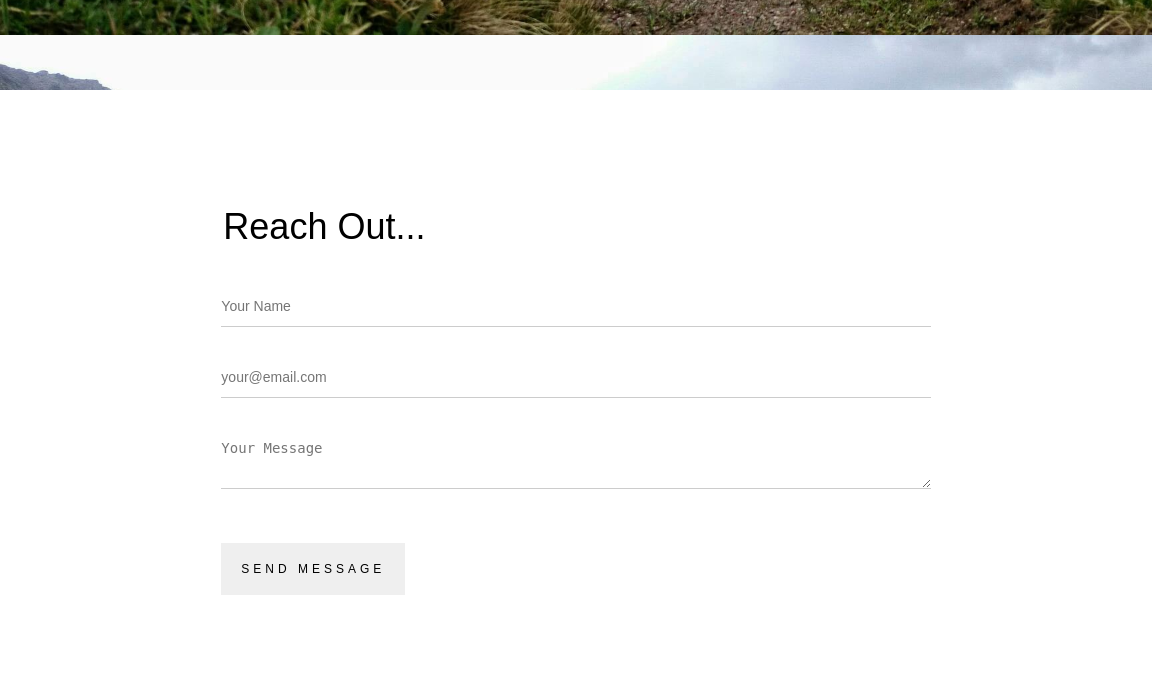
Test: should have correct error messages if inputs left blank
(page scrolled)
Click the button "Send Message": (313, 569) [221, 543, 405, 595]
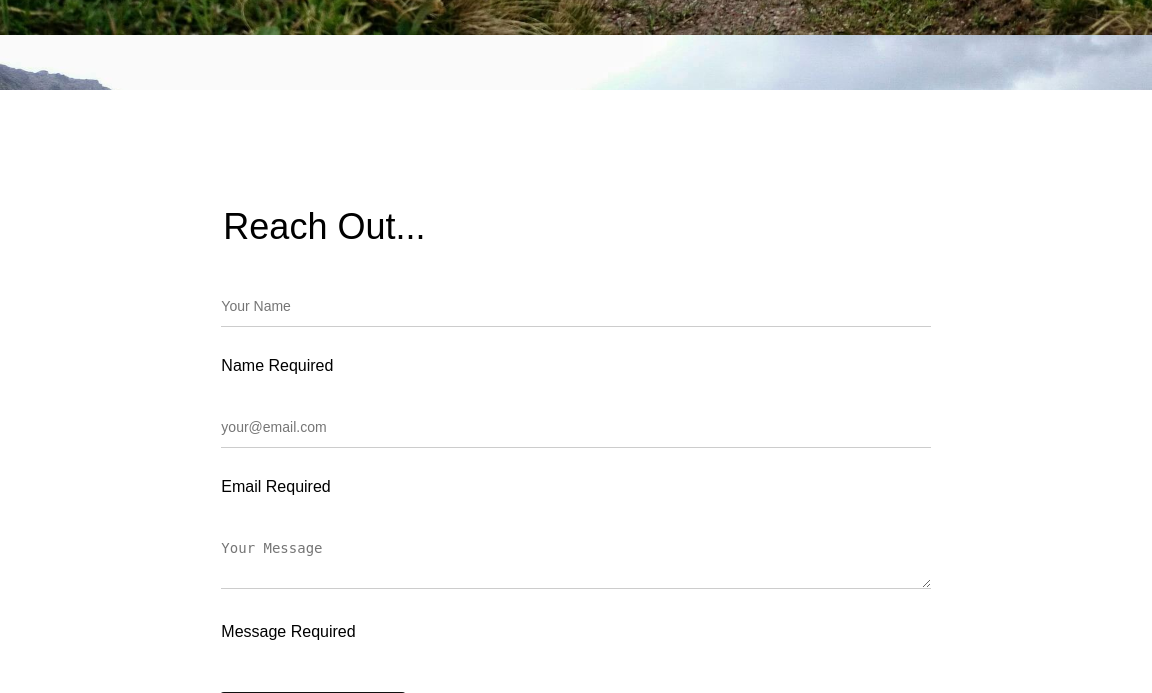
Now the text "Name Required" is shown, box [221, 357, 333, 374]
Now the text "Email Required" is shown, box [221, 478, 331, 495]
Now the text "Message Required" is shown, box [221, 623, 356, 640]
